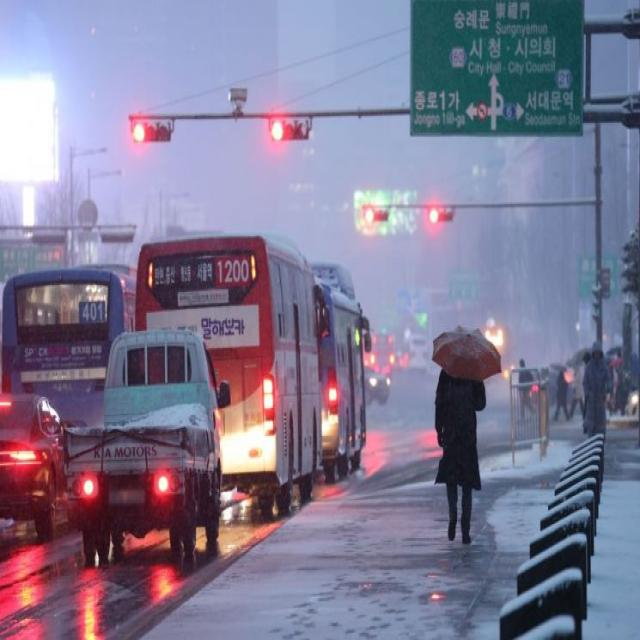Red Light: (266, 113, 285, 144), (130, 115, 146, 148), (425, 202, 440, 228), (364, 205, 376, 228)
